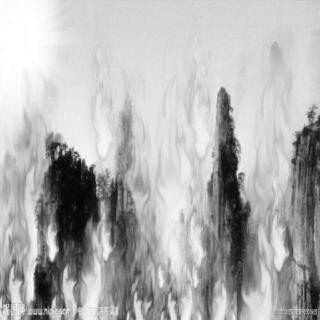Fire: (2, 91, 320, 315)
